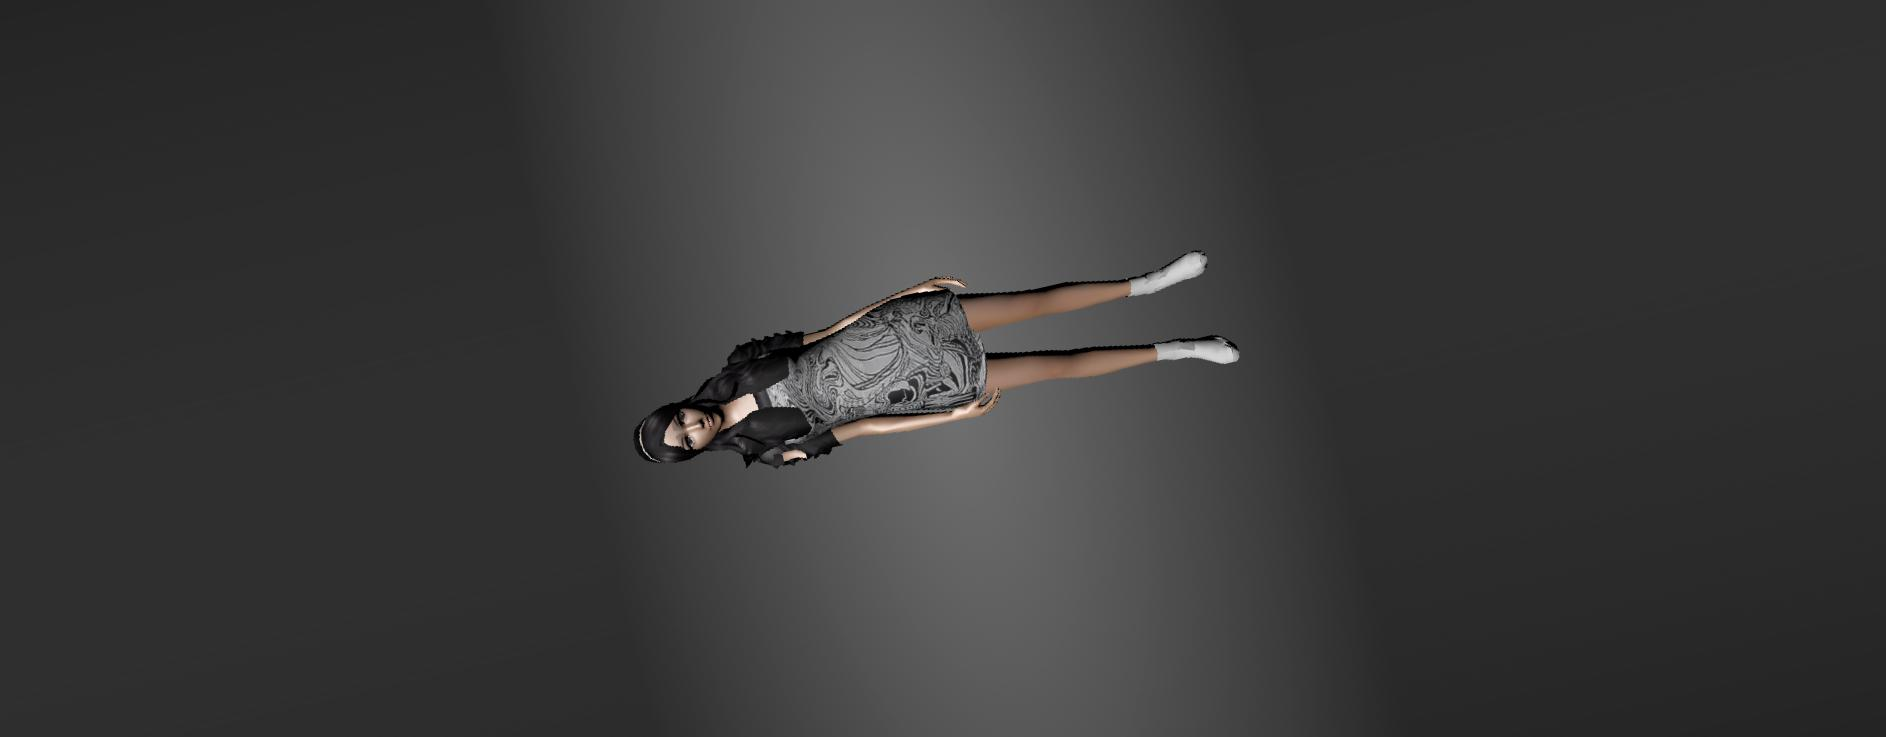clip: (776, 441, 814, 469)
